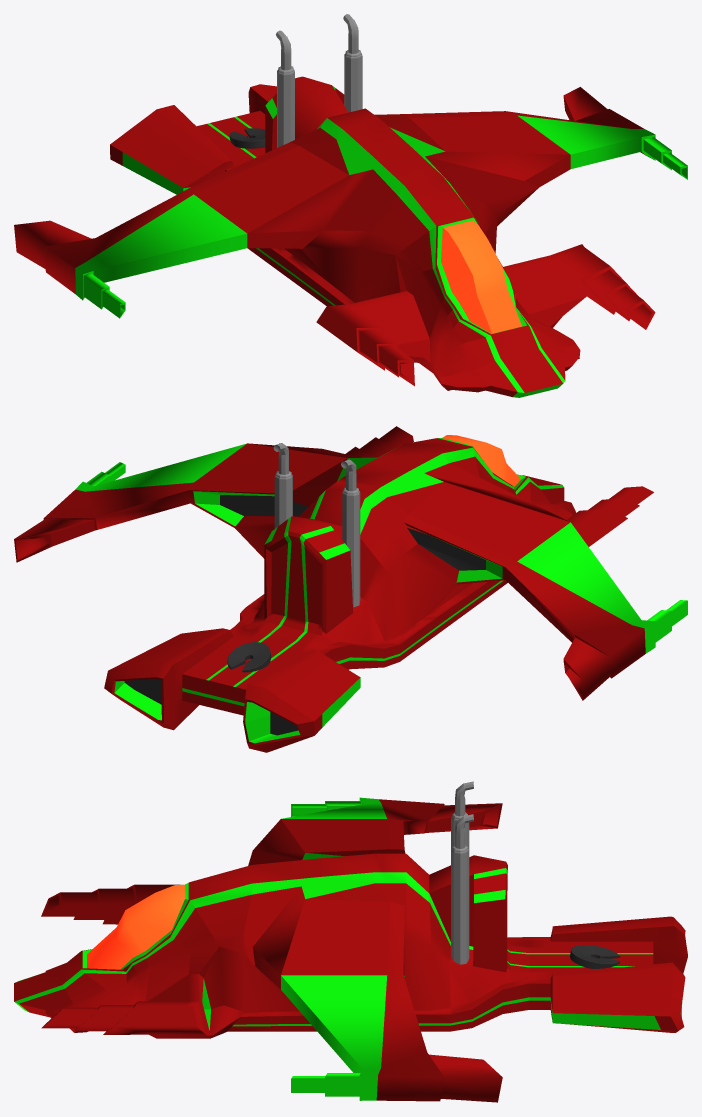
Rendered from Truck_Shooter.fbx.
The picture shows the model from 3 angles, top to bottom: view 1: azimuth 30°, elevation 25°; view 2: azimuth 150°, elevation 25°; view 3: azimuth 270°, elevation 25°; orthographic projection.
Parts seen in each view (by area): view 1: polySurface6; view 2: polySurface6; view 3: polySurface6.
Boxes of the visible parts, x1=… form: polySurface6: x1=14, y1=14, x2=687, y2=397; polySurface6: x1=14, y1=426, x2=687, y2=752; polySurface6: x1=14, y1=781, x2=687, y2=1102.
Bounding box in the file's own units: 580 × 206 × 595.
